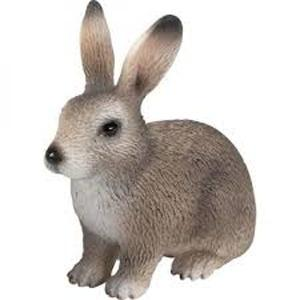rabbit: (44, 1, 255, 298)
